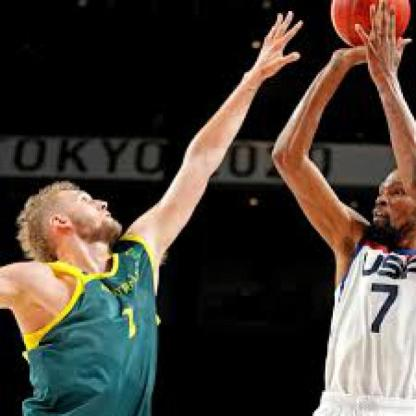basketball: (331, 0, 411, 52)
